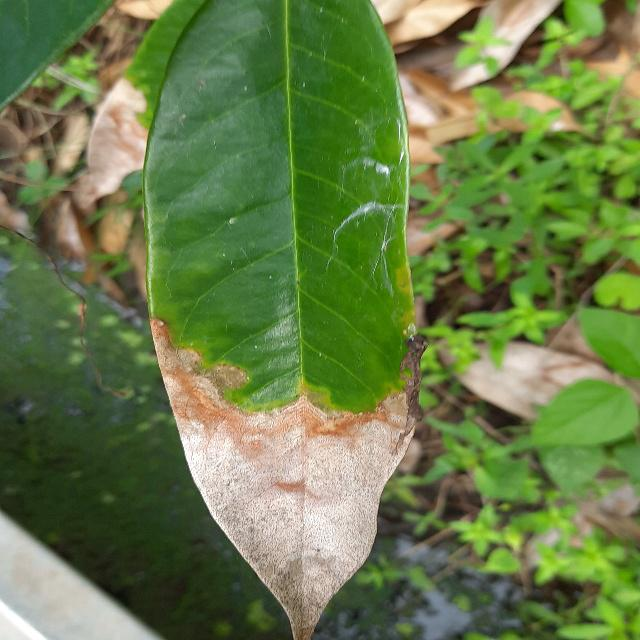Leaf Blight: (137, 0, 435, 639)
